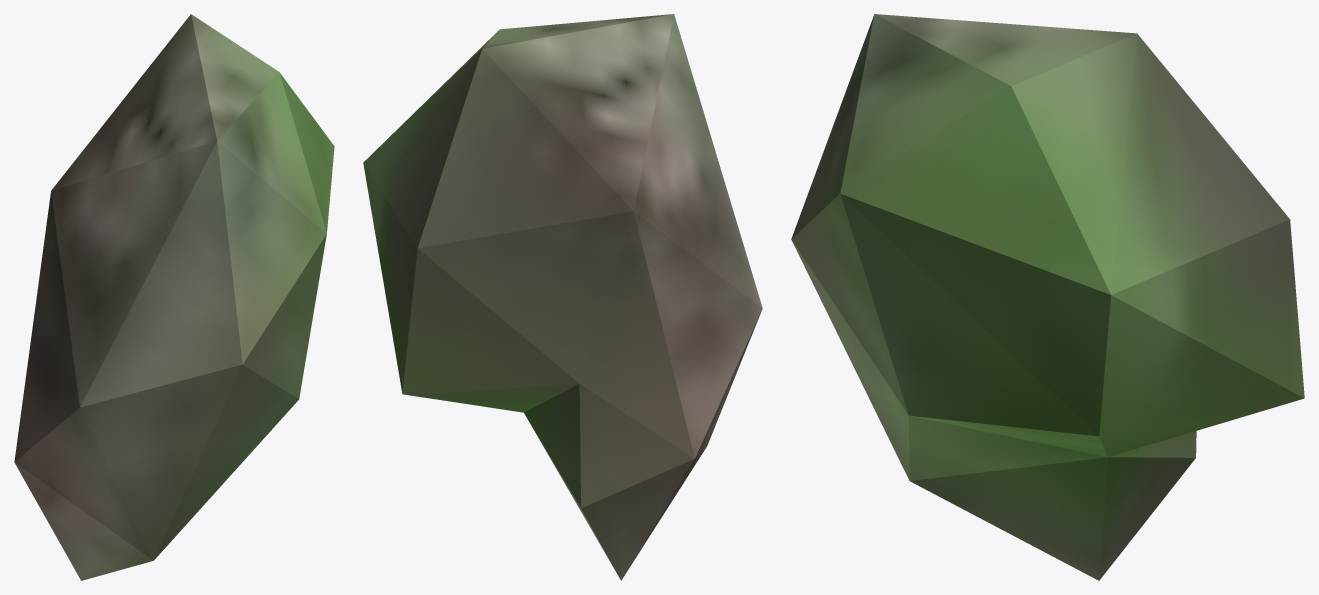
The picture shows the model from 3 angles, left to right: view 1: azimuth 30°, elevation 25°; view 2: azimuth 150°, elevation 25°; view 3: azimuth 270°, elevation 25°; orthographic projection. The views are drawn at different scales.
Size of the model in its own units: 0.2036 by 0.308 by 0.2311.
1 material, 1 textured.
